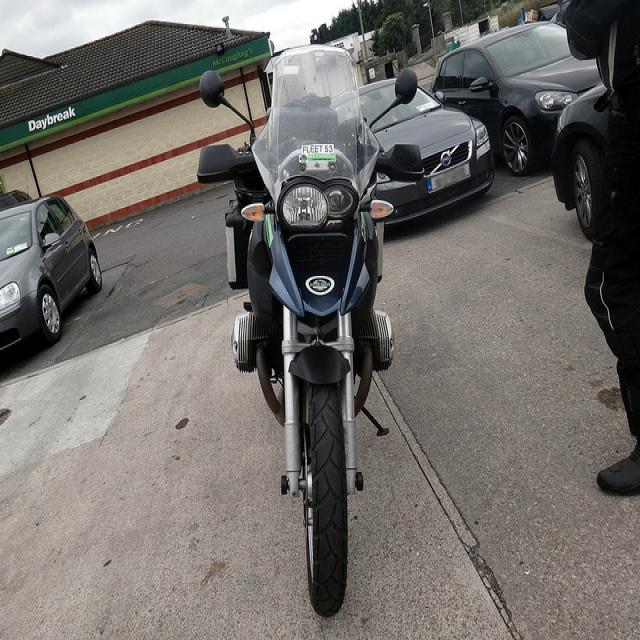motor: (189, 39, 428, 630)
